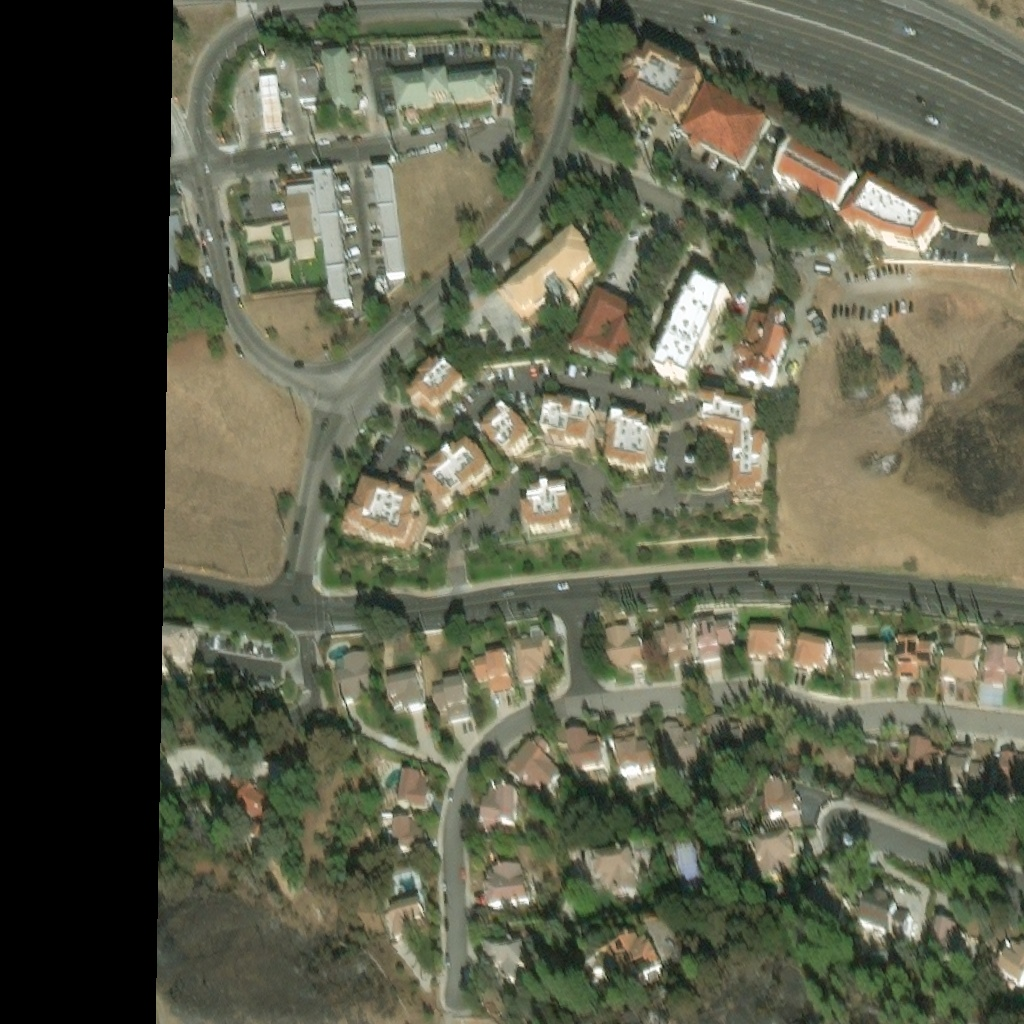0 no-damage: (497, 231, 605, 326), (697, 389, 769, 502), (837, 176, 944, 251), (680, 85, 773, 169), (649, 276, 726, 375), (340, 475, 429, 557), (618, 49, 704, 125), (773, 140, 858, 209), (568, 289, 645, 365), (421, 440, 496, 508), (394, 66, 500, 108), (733, 308, 790, 384), (165, 200, 200, 318), (540, 399, 609, 456), (227, 773, 282, 839), (503, 739, 564, 795), (608, 935, 666, 991), (407, 363, 467, 417), (606, 412, 656, 472), (519, 482, 575, 535), (282, 185, 322, 258), (480, 408, 534, 461), (801, 872, 850, 922), (645, 624, 693, 674), (858, 888, 910, 934), (515, 628, 554, 689), (601, 624, 648, 674), (322, 47, 357, 114), (660, 720, 705, 770), (923, 911, 965, 962), (758, 785, 805, 828), (159, 626, 197, 679), (485, 861, 529, 905), (593, 848, 637, 892), (474, 652, 514, 700), (434, 677, 474, 724), (695, 617, 737, 661), (754, 831, 795, 876), (336, 654, 375, 701), (613, 726, 654, 770), (483, 940, 527, 981), (939, 632, 979, 677), (943, 739, 982, 785), (791, 632, 834, 672), (258, 75, 286, 135), (982, 642, 1021, 685), (893, 633, 932, 676), (388, 672, 426, 715), (483, 788, 518, 834), (396, 768, 434, 810), (904, 732, 942, 772), (319, 212, 347, 265), (569, 732, 607, 770), (992, 938, 1023, 984), (748, 623, 784, 662), (705, 715, 744, 751), (854, 641, 890, 678), (391, 902, 427, 939), (387, 816, 424, 851), (993, 745, 1023, 788), (313, 169, 340, 215), (326, 262, 352, 303), (371, 163, 395, 203), (382, 235, 404, 273), (377, 200, 399, 237), (976, 232, 1003, 252), (258, 673, 273, 687)
